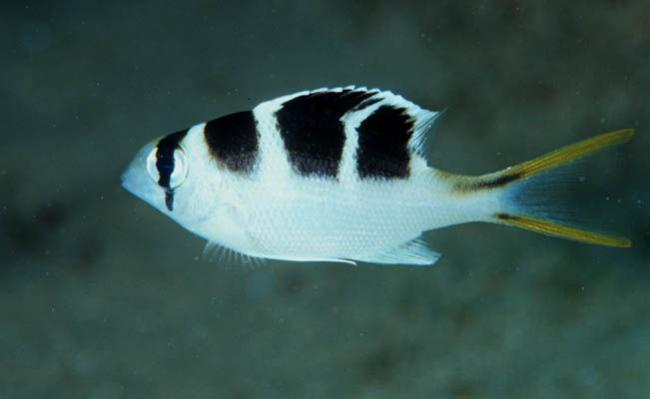fish: (121, 85, 635, 266)
